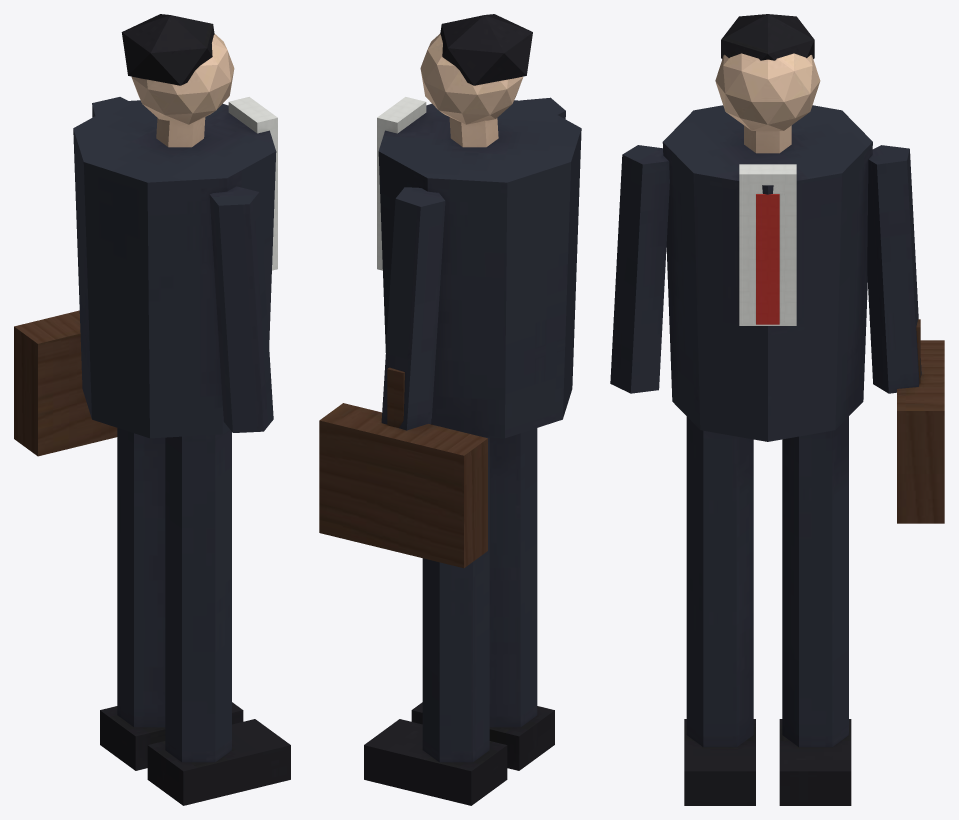
The model's file is kontorist_tex.glb.
3 renders of one model, left to right at view 1: azimuth 30°, elevation 25°; view 2: azimuth 150°, elevation 25°; view 3: azimuth 270°, elevation 25°, orthographic.
Visible parts, largest first — view 1: kontorist; view 2: kontorist; view 3: kontorist.
Boxes of the visible parts, x1=… form: kontorist: x1=14, y1=14, x2=290, y2=805; kontorist: x1=319, y1=14, x2=581, y2=805; kontorist: x1=610, y1=14, x2=944, y2=805.
Bounding box in the file's own units: 0.44 × 1.74 × 0.6997.
Materials: 7 (7 with a texture image).
